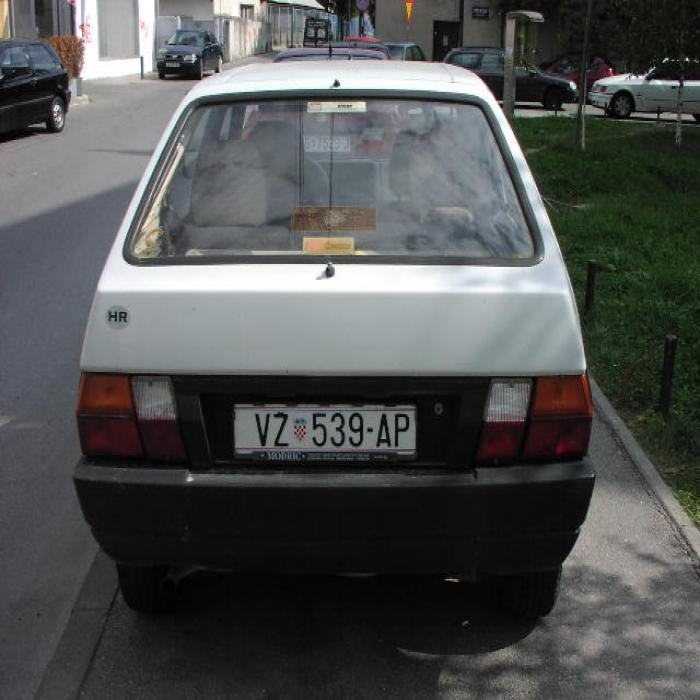number_plate: (232, 406, 413, 450)
